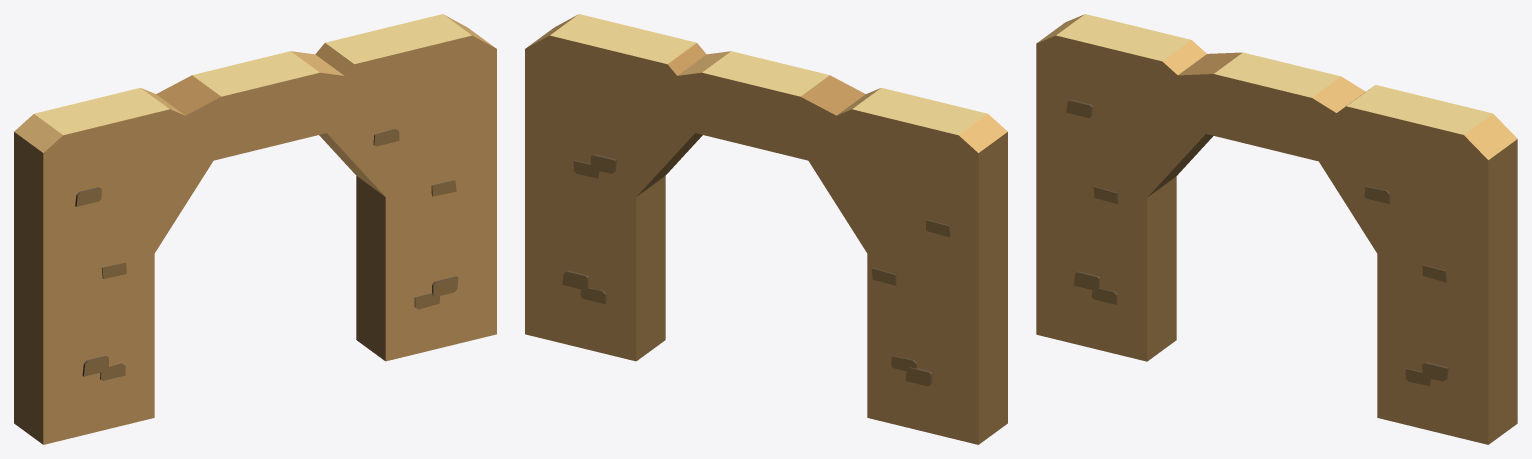
File: TB_D_Bd_Gate_Plain_A_Yel.FBX
The picture shows the model from 3 angles, left to right: view 1: azimuth 30°, elevation 25°; view 2: azimuth 150°, elevation 25°; view 3: azimuth 330°, elevation 25°; orthographic projection.
Parts seen in each view (by area): view 1: TB_D_Bd_Gate_Plain_A_Yel; view 2: TB_D_Bd_Gate_Plain_A_Yel; view 3: TB_D_Bd_Gate_Plain_A_Yel.
Boxes of the visible parts, x1,y1,x2,y2 form: TB_D_Bd_Gate_Plain_A_Yel: (14, 14, 496, 444); TB_D_Bd_Gate_Plain_A_Yel: (525, 14, 1007, 444); TB_D_Bd_Gate_Plain_A_Yel: (1036, 14, 1517, 444).
Size of the model in its own units: 6.23 by 4 by 0.7691.
